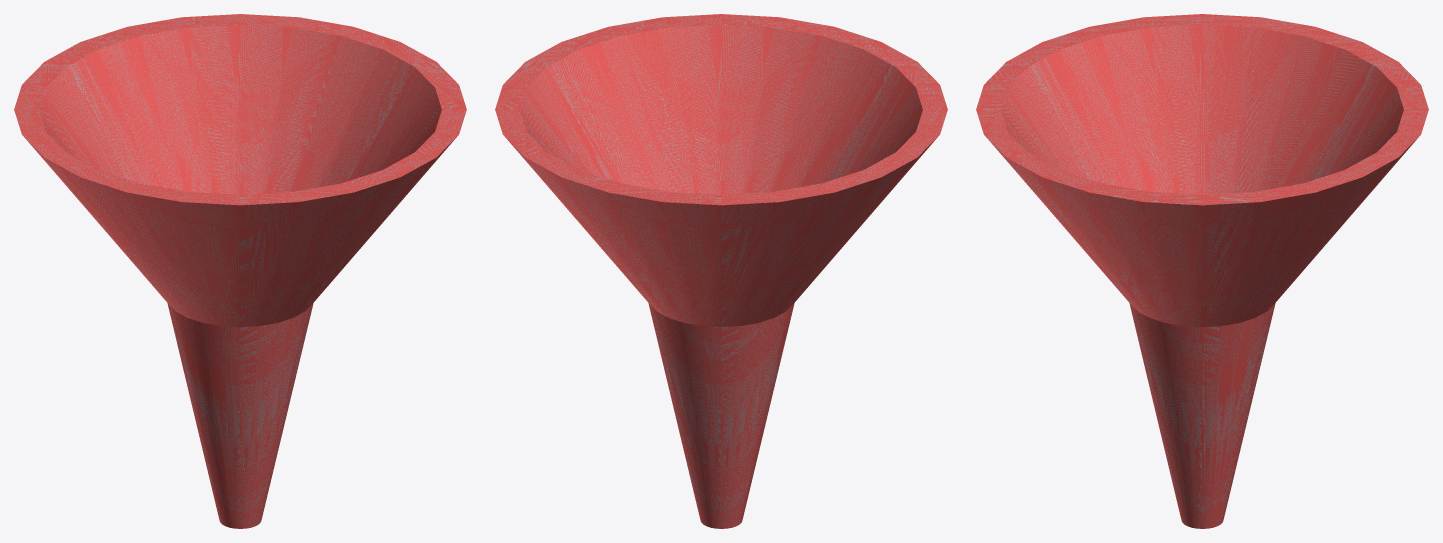
Rendered from _Funnel.dae.
3 renders of one model, left to right at view 1: azimuth 30°, elevation 25°; view 2: azimuth 150°, elevation 25°; view 3: azimuth 270°, elevation 25°, orthographic.
Parts seen in each view (by area): view 1: SketchUp (×2); view 2: SketchUp (×2); view 3: SketchUp (×2).
Boxes of the visible parts, x1,y1,x2,y2 form: SketchUp (×2): (14, 14, 466, 528); SketchUp (×2): (495, 14, 947, 528); SketchUp (×2): (976, 14, 1428, 528).
Bounding box in the file's own units: 79.12 × 79.12 × 79.12.
